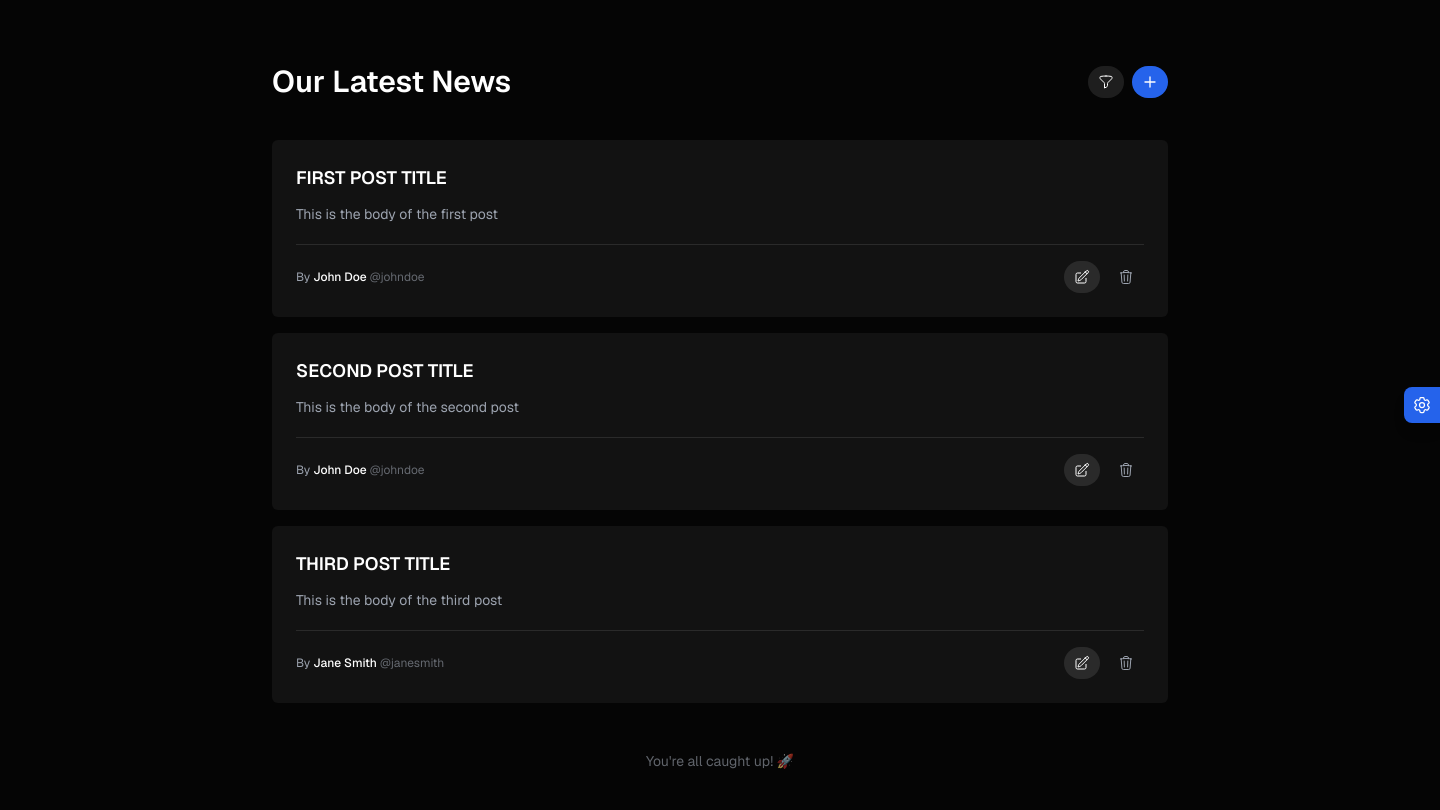
Posts Page › Delete Functionality › should close modal when cancel is clicked
Expected: the heading "First Post Title" is shown, left=296, top=166, right=447, bottom=189
Click the 4th button named "delete".
click(1126, 277)  # box left=1108, top=261, right=1144, bottom=293
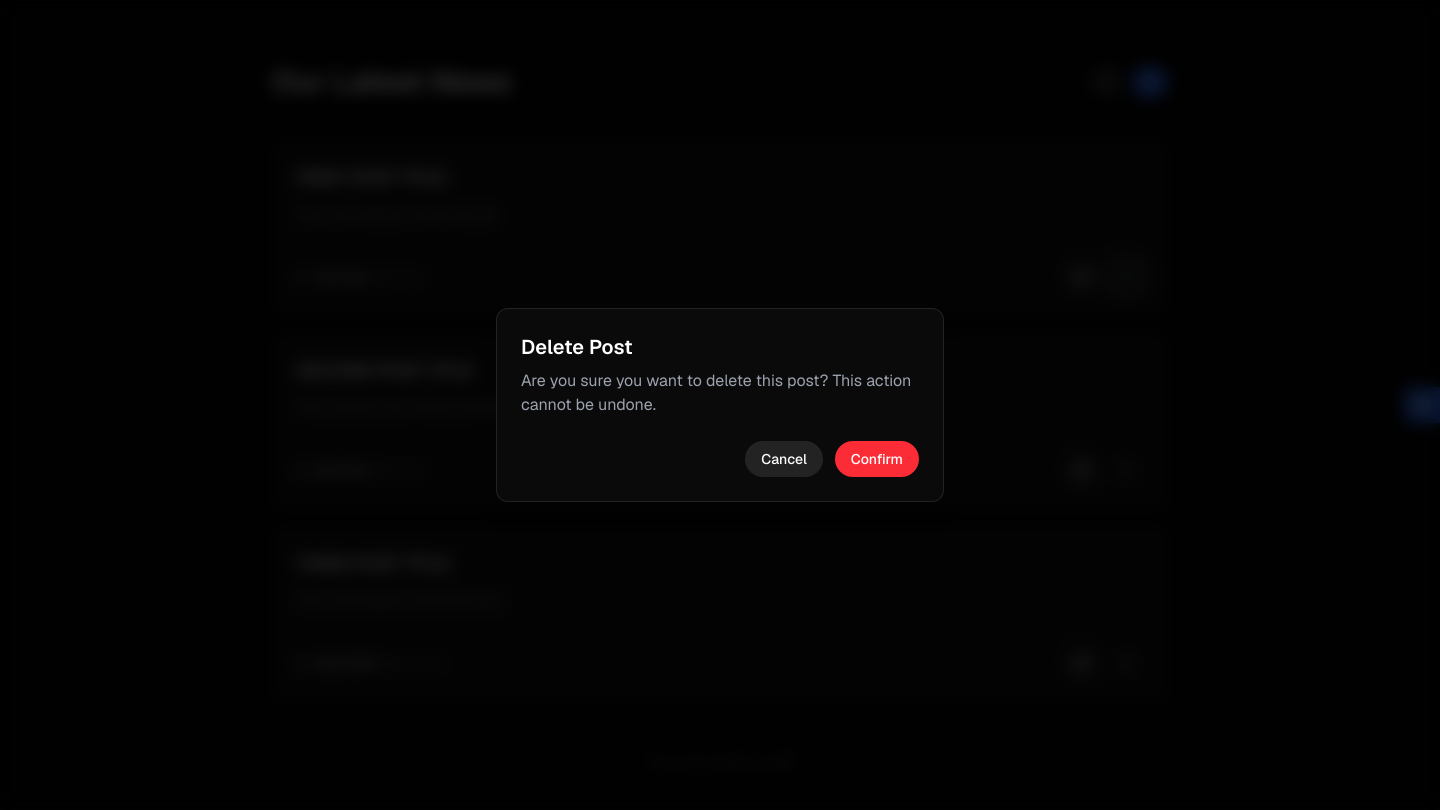
Click the button "Cancel".
click(784, 459)  # box left=745, top=441, right=823, bottom=477
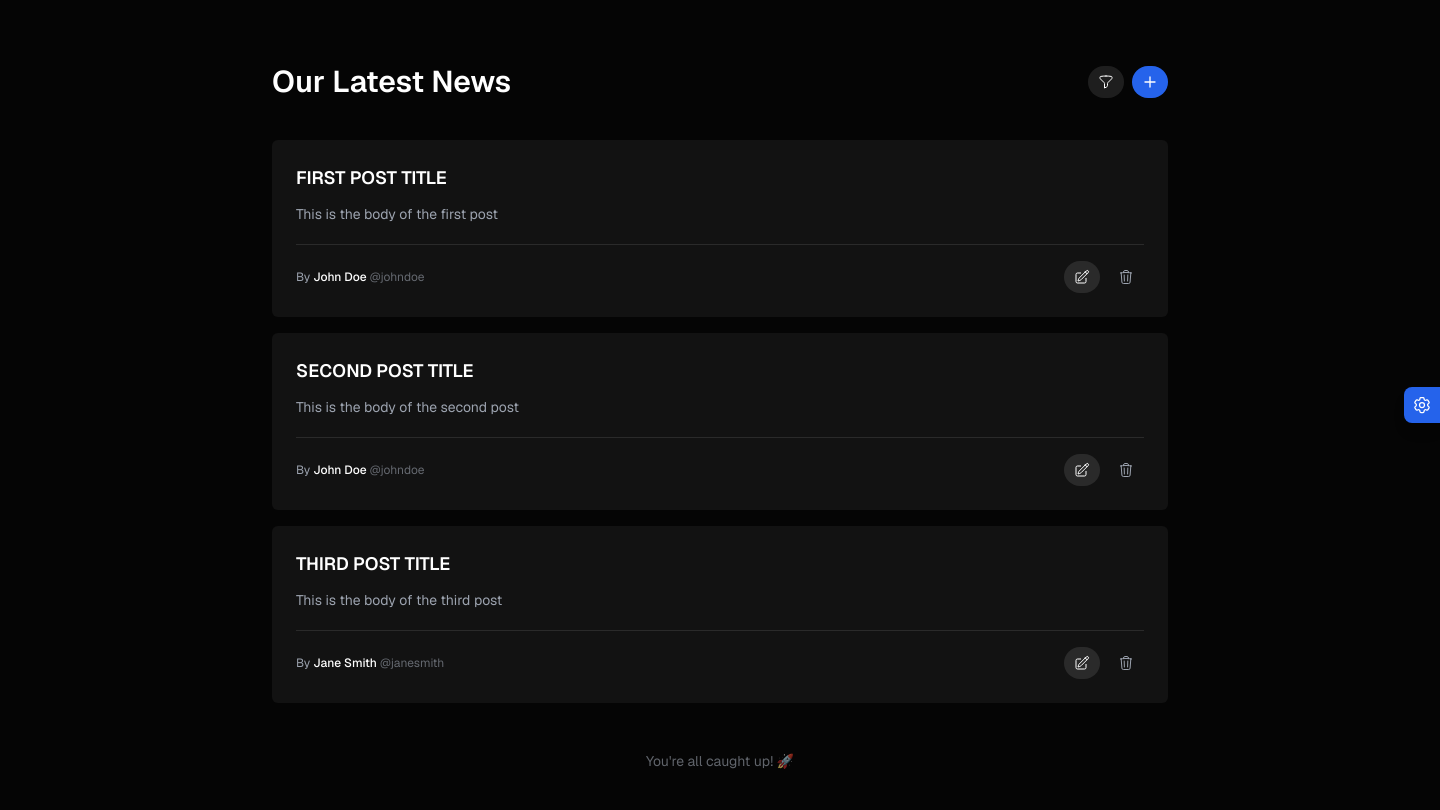
Expected: the dialog is gone
